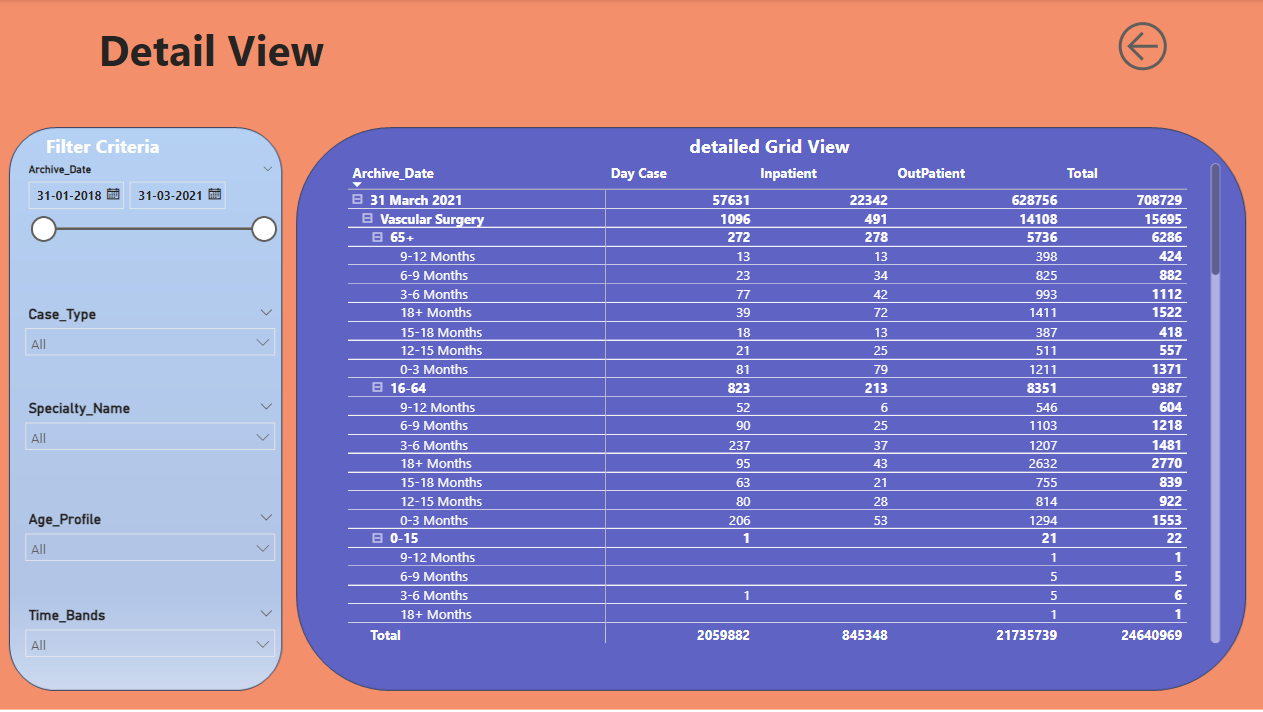

What the dashboard file says about the page in this screenshot:
{"tool":"powerbi","page":{"name":"Detail","canvas":[1280,720],"ordinal":1},"visuals":[{"type":"slicer","fields":{"Values":["All_Data.Archive_Date"]},"box":[16,160,272,128],"z":0},{"type":"slicer","fields":{"Values":["All_Data.Case_Type"]},"box":[16,304,272,96],"z":1000},{"type":"slicer","fields":{"Values":["All_Data.Specialty_Name"]},"box":[16,400,272,96],"z":2000},{"type":"textbox","box":[96,16,416,80],"z":3000},{"type":"slicer","fields":{"Values":["All_Data.Age_Profile"]},"box":[16,512,272,96],"z":4000},{"type":"slicer","fields":{"Values":["All_Data.Time_Bands"]},"box":[16,608,272,96],"z":5000},{"type":"textbox","box":[42.9,130.4,136.8,73.2],"z":6000},{"type":"textbox","box":[691.9,130.4,588.5,73.2],"z":7000},{"type":"pivotTable","fields":{"Rows":["All_Data.Archive_Date","All_Data.Specialty_Name","All_Data.Age_Profile","All_Data.Time_Bands"],"Columns":["All_Data.Case_Type"],"Values":["Sum(All_Data.Total)"]},"box":[346.8,160.7,890.7,494.7],"z":8000},{"type":"actionButton","box":[1123,15.9,114.5,62],"z":9000}]}

Visuals, with their boxes in screenshot pixels (x1, y1, x2, y2), scaled from the page's 1280x720 canvas onto the 1263x712 screenshot:
slicer - All_Data.Archive_Date: left=16, top=158, right=284, bottom=285
slicer - All_Data.Case_Type: left=16, top=301, right=284, bottom=396
slicer - All_Data.Specialty_Name: left=16, top=396, right=284, bottom=490
textbox: left=95, top=16, right=505, bottom=95
slicer - All_Data.Age_Profile: left=16, top=506, right=284, bottom=601
slicer - All_Data.Time_Bands: left=16, top=601, right=284, bottom=696
textbox: left=42, top=129, right=177, bottom=201
textbox: left=683, top=129, right=1262, bottom=201
pivotTable - All_Data.Archive_Date x All_Data.Specialty_Name: left=342, top=159, right=1221, bottom=648
actionButton: left=1108, top=16, right=1221, bottom=77
